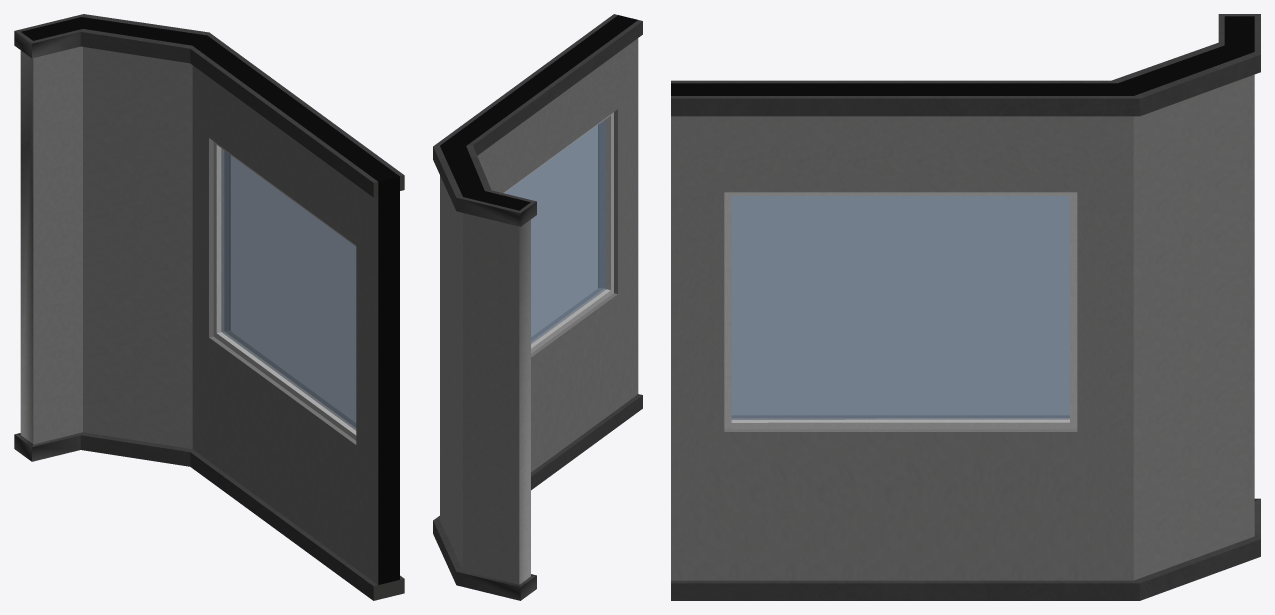
The model's file is envControlRoom.fbx.
3 views of the same model, side by side, from view 1: azimuth 30°, elevation 25°; view 2: azimuth 150°, elevation 25°; view 3: azimuth 270°, elevation 25° (orthographic). The views are drawn at different scales.
Visible parts, largest first — view 1: envFirstFloor_ControlRoom; view 2: envFirstFloor_ControlRoom; view 3: envFirstFloor_ControlRoom.
Boxes of the visible parts, <box> form: envFirstFloor_ControlRoom: <box>14,14,404,600</box>; envFirstFloor_ControlRoom: <box>433,14,642,600</box>; envFirstFloor_ControlRoom: <box>671,14,1260,600</box>.
Size of the model in its own units: 132 by 366 by 389.
5 materials, 3 textured.
